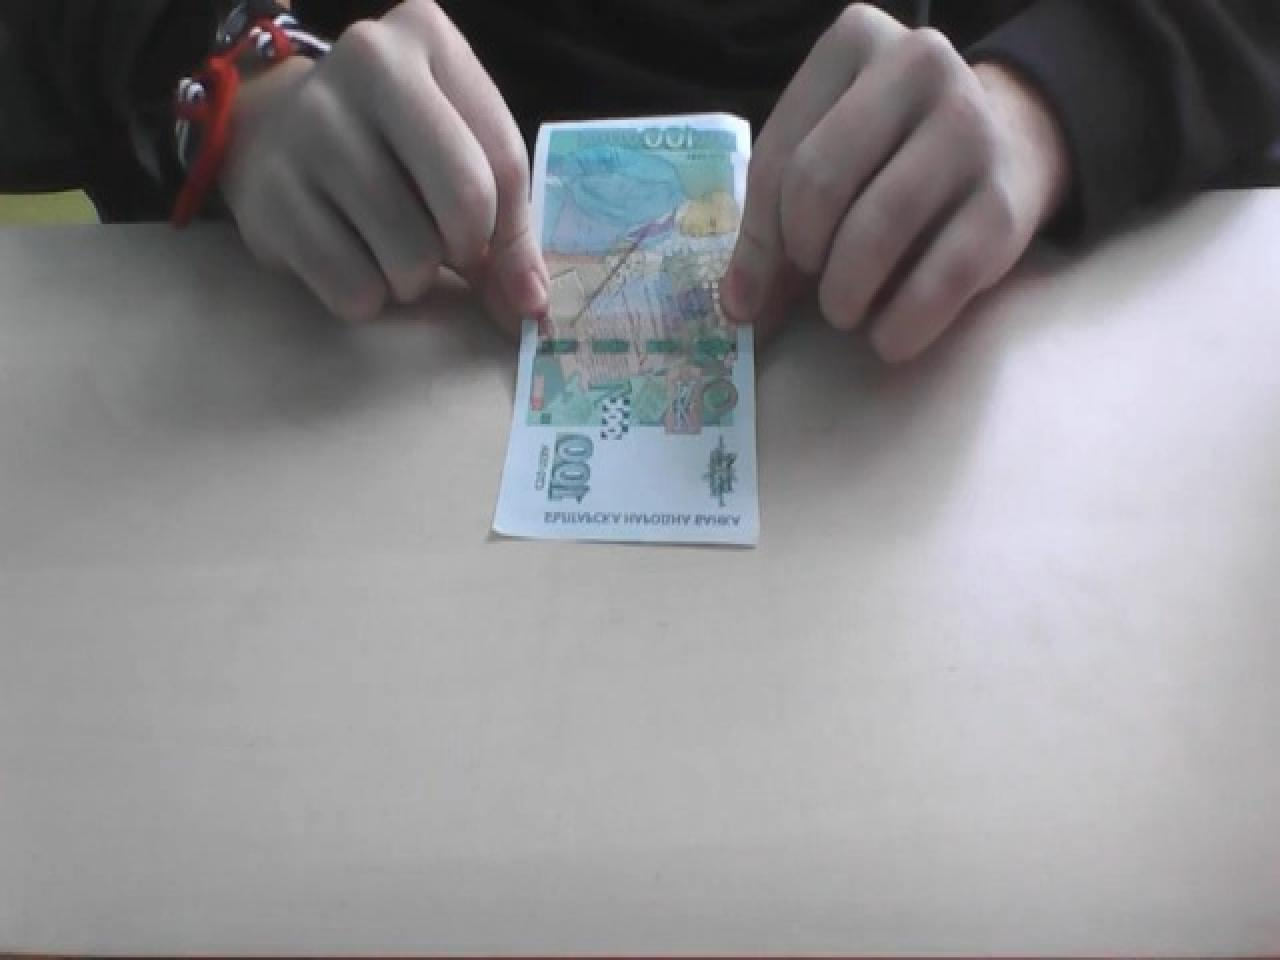100leva: (490, 115, 760, 550)
